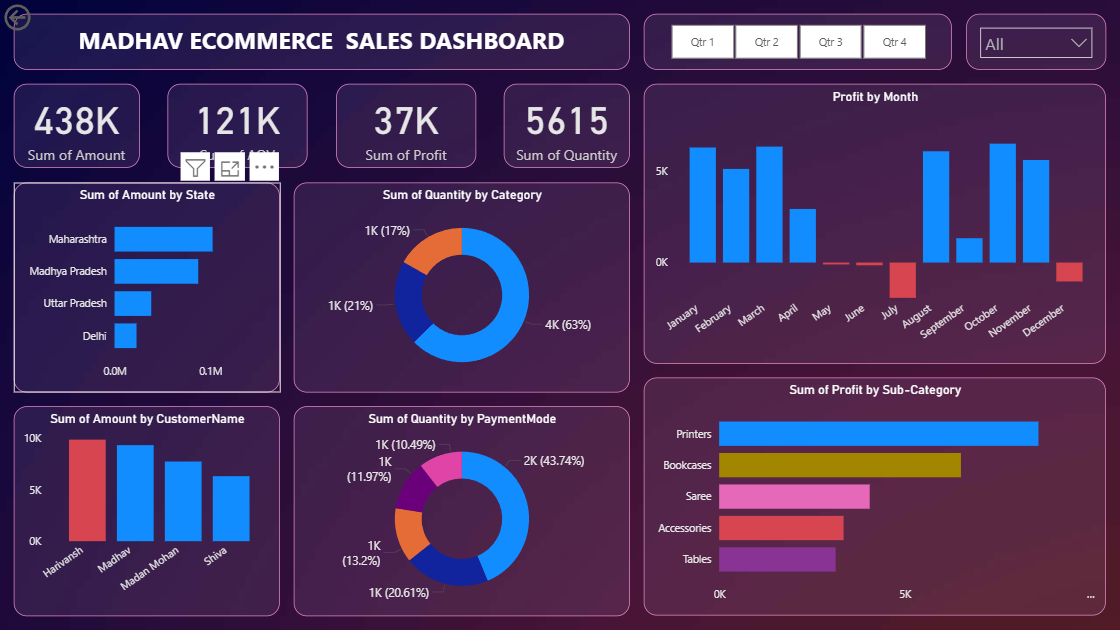

The dashboard page shown, as its layout file describes it:
{"tool":"powerbi","page":{"name":"Page 1","canvas":[1280,720],"ordinal":0},"visuals":[{"type":"textbox","box":[16,16,704,64],"z":0},{"type":"clusteredColumnChart","title":"Profit by Month","fields":{"Category":["Orders.Order Date.Variation.Date Hierarchy.Month"],"Y":["Sum(Details.Profit)"]},"box":[736,96,528,320],"z":1000},{"type":"barChart","fields":{"Category":["Details.Sub-Category"],"Y":["Sum(Details.Profit)"]},"box":[736,432,528,272],"z":2000},{"type":"donutChart","fields":{"Category":["Details.Category"],"Y":["Sum(Details.Quantity)"]},"box":[336,208,384,240],"z":3000},{"type":"donutChart","fields":{"Y":["Sum(Details.Quantity)"],"Category":["Details.PaymentMode"]},"box":[336,464,384,240],"z":4000},{"type":"card","fields":{"Values":["Sum(Details.Amount)"]},"box":[16,96,144,96],"z":5000},{"type":"actionButton","box":[0,0,100,40],"z":6000},{"type":"card","fields":{"Values":["Sum(Details.Quantity)"]},"box":[576,96,144,96],"z":7000},{"type":"card","fields":{"Values":["Sum(Details.Profit)"]},"box":[384,96,160,96],"z":8000},{"type":"card","fields":{"Values":["Sum(Details.AOV)"]},"box":[192,96,160,96],"z":9000},{"type":"barChart","fields":{"Category":["Orders.State"],"Y":["Sum(Details.Amount)"]},"box":[16,208,304,240],"z":10000},{"type":"columnChart","fields":{"Y":["Sum(Details.Amount)"],"Category":["Orders.CustomerName"]},"box":[16,464,304,240],"z":11000},{"type":"slicer","fields":{"Values":["Orders.Order Date.Variation.Date Hierarchy.Quarter"]},"box":[736,16,352,64],"z":12000},{"type":"slicer","fields":{"Values":["Orders.State"]},"box":[1104,16,160,64],"z":13000}]}

Visuals, with their boxes in screenshot pixels (x1, y1, x2, y2), scaled from the page's 1280x720 canvas onto the 1120x630 screenshot:
textbox: 14, 14, 630, 70
"Profit by Month" clusteredColumnChart: 644, 84, 1106, 364
barChart - Details.Sub-Category x Sum(Details.Profit): 644, 378, 1106, 616
donutChart - Details.Category x Sum(Details.Quantity): 294, 182, 630, 392
donutChart - Sum(Details.Quantity) x Details.PaymentMode: 294, 406, 630, 616
card - Sum(Details.Amount): 14, 84, 140, 168
actionButton: 0, 0, 88, 35
card - Sum(Details.Quantity): 504, 84, 630, 168
card - Sum(Details.Profit): 336, 84, 476, 168
card - Sum(Details.AOV): 168, 84, 308, 168
barChart - Orders.State x Sum(Details.Amount): 14, 182, 280, 392
columnChart - Sum(Details.Amount) x Orders.CustomerName: 14, 406, 280, 616
slicer - Orders.Order Date.Variation.Date Hierarchy.Quarter: 644, 14, 952, 70
slicer - Orders.State: 966, 14, 1106, 70
